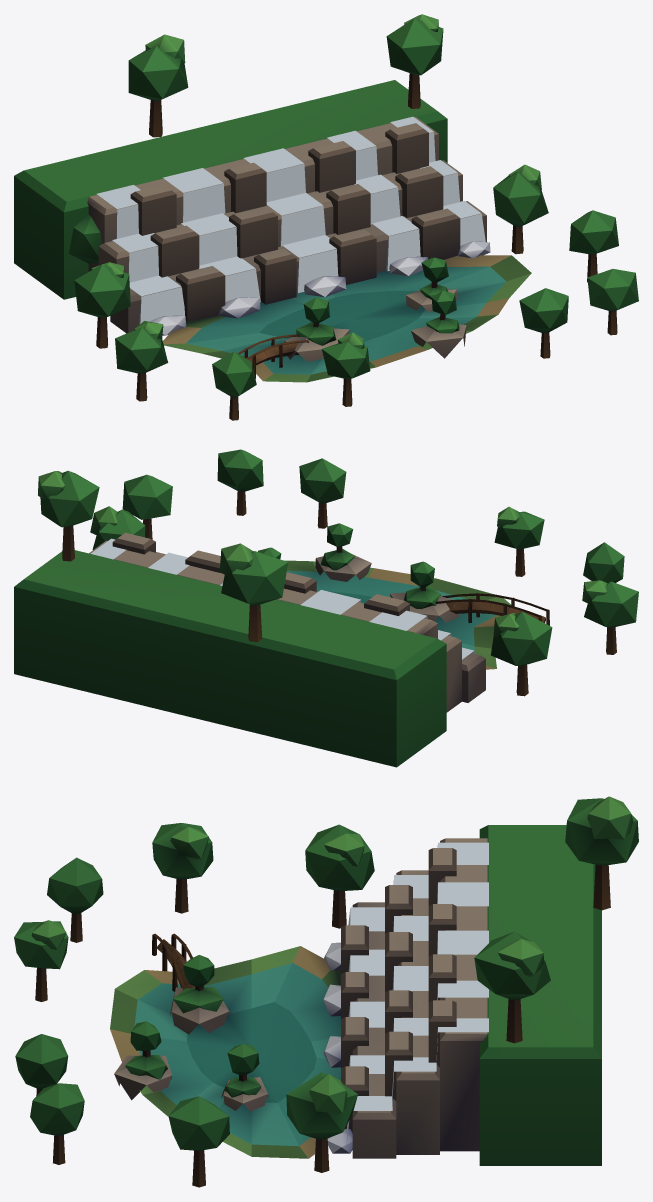
Rendered from caroni_llovizna.glb.
3 views of the same model, one above another, from view 1: azimuth 30°, elevation 25°; view 2: azimuth 150°, elevation 25°; view 3: azimuth 270°, elevation 25° (orthographic). The views are drawn at different scales.
Visible parts, largest first — view 1: roca_cascada, arboles, cascada, estanque, islotes, puente_madera; view 2: roca_cascada, arboles, estanque, islotes, cascada, puente_madera; view 3: roca_cascada, arboles, estanque, cascada, islotes, puente_madera.
Boxes of the visible parts, x1,y1,x2,y2 form: roca_cascada: [14, 80, 486, 333]; arboles: [69, 14, 638, 420]; cascada: [97, 116, 490, 335]; estanque: [162, 255, 531, 382]; islotes: [284, 257, 466, 361]; puente_madera: [238, 334, 309, 378]; roca_cascada: [14, 532, 485, 767]; arboles: [38, 449, 638, 696]; estanque: [283, 560, 510, 669]; islotes: [258, 523, 459, 622]; cascada: [90, 538, 474, 659]; puente_madera: [435, 593, 549, 625]; roca_cascada: [341, 825, 601, 1165]; arboles: [14, 796, 638, 1187]; estanque: [110, 946, 340, 1158]; cascada: [323, 842, 488, 1153]; islotes: [114, 955, 268, 1111]; puente_madera: [152, 933, 204, 991].
Bounding box in the file's own units: 81.73 × 30.91 × 71.35.
